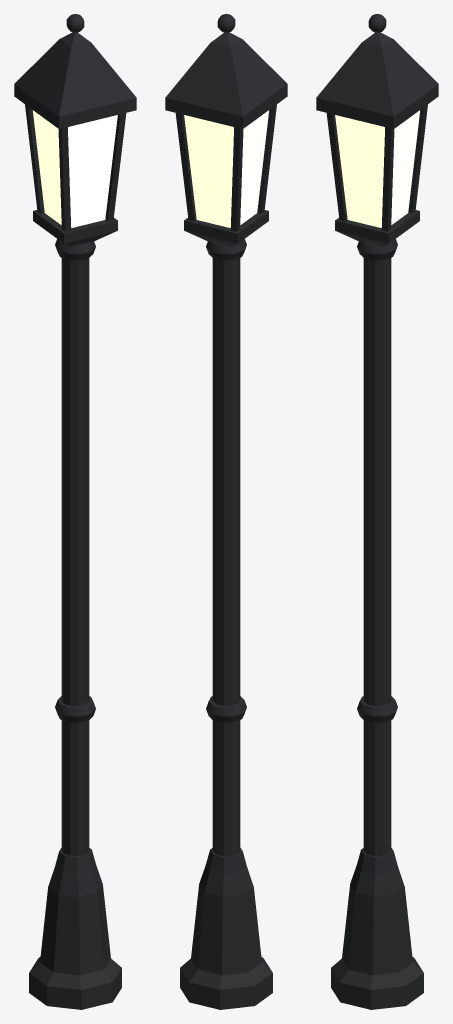
The model's file is poste_luz.glb.
The picture shows the model from 3 angles, left to right: view 1: azimuth 30°, elevation 25°; view 2: azimuth 150°, elevation 25°; view 3: azimuth 330°, elevation 25°; orthographic projection.
Parts seen in each view (by area): view 1: poste_luz; view 2: poste_luz; view 3: poste_luz.
Boxes of the visible parts, x1,y1,x2,y2 form: poste_luz: [14, 14, 136, 1009]; poste_luz: [165, 14, 287, 1009]; poste_luz: [316, 14, 438, 1009].
Size of the model in its own units: 0.3253 by 3.9 by 0.3253.
